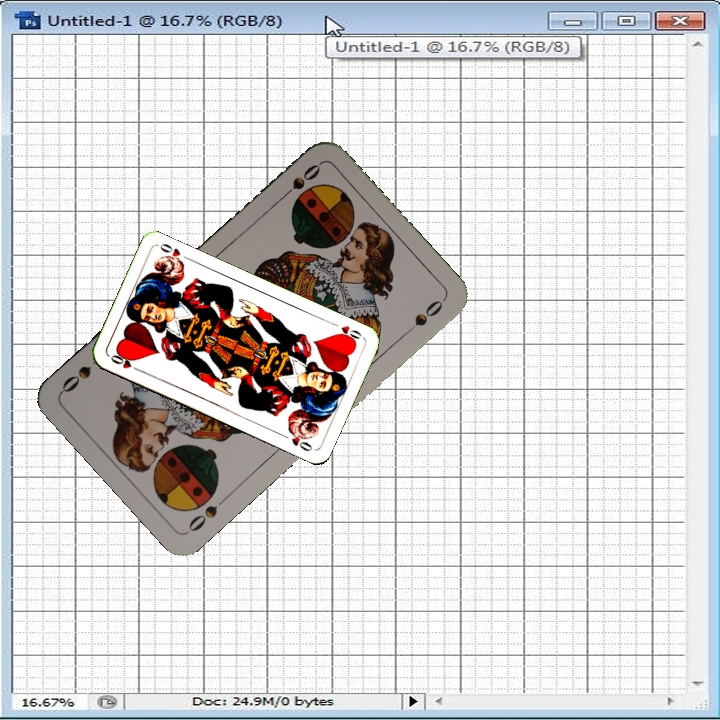HO: (106, 349, 144, 374), (333, 321, 364, 346)
SO: (275, 159, 323, 204), (184, 491, 232, 535)
